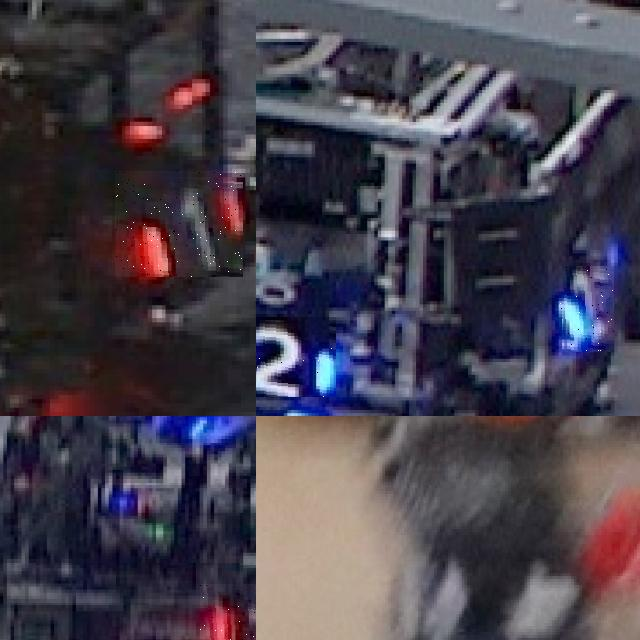B2: (256, 317, 336, 397), (559, 266, 614, 352)
R1: (115, 171, 243, 277)
R2: (199, 583, 256, 640)
